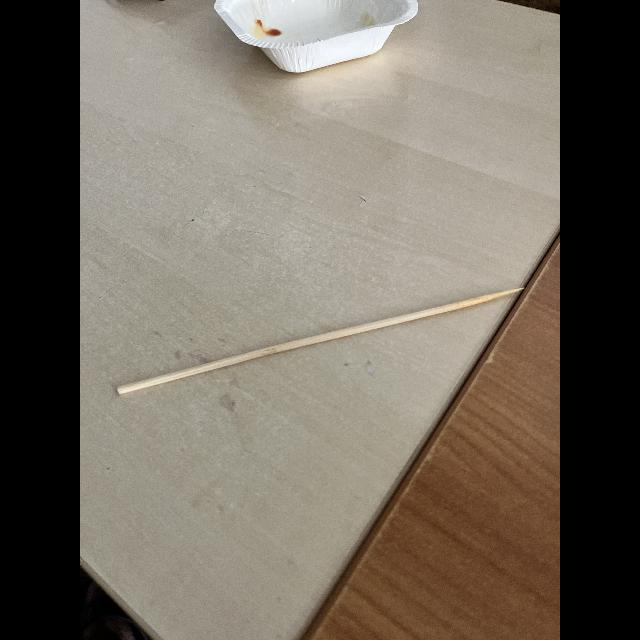cardboard_bowl: (198, 0, 440, 98)
stick: (106, 261, 538, 433)
